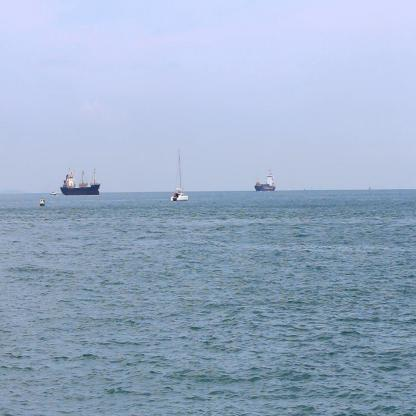Container Ship: (59, 167, 100, 196), (254, 168, 276, 192)
